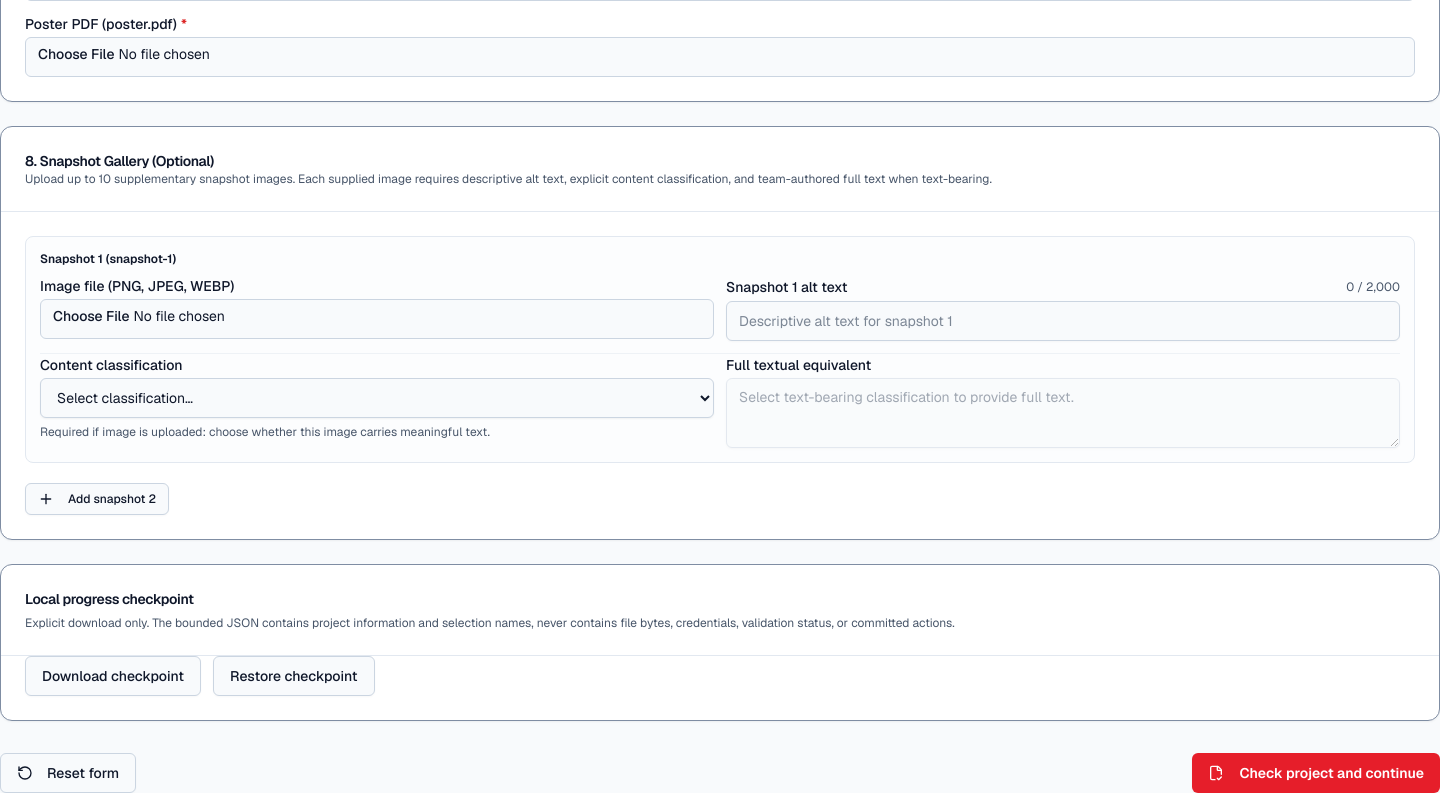
Scenario: ProjectIntakeForm Component › allows incrementing visible snapshot slots
The width and height of the screenshot is (1440, 793).
(page scrolled)
Click the button "Add snapshot 2" at (97, 499), box top-left (25, 483), bottom-right (169, 515)
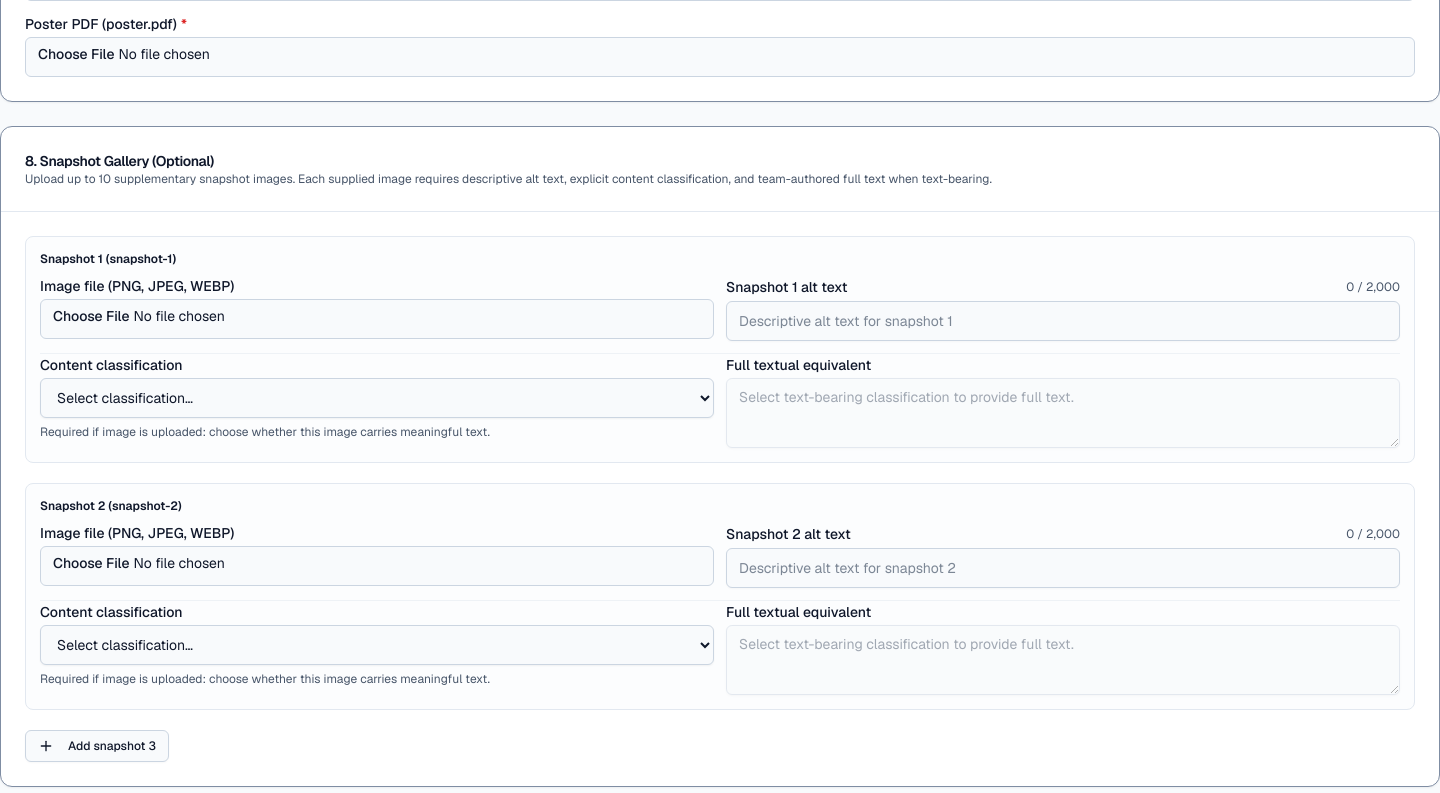
Now the button "Add snapshot 3" is shown
Click the button "Add snapshot 3" at (97, 746), box top-left (25, 730), bottom-right (169, 762)
(page scrolled)
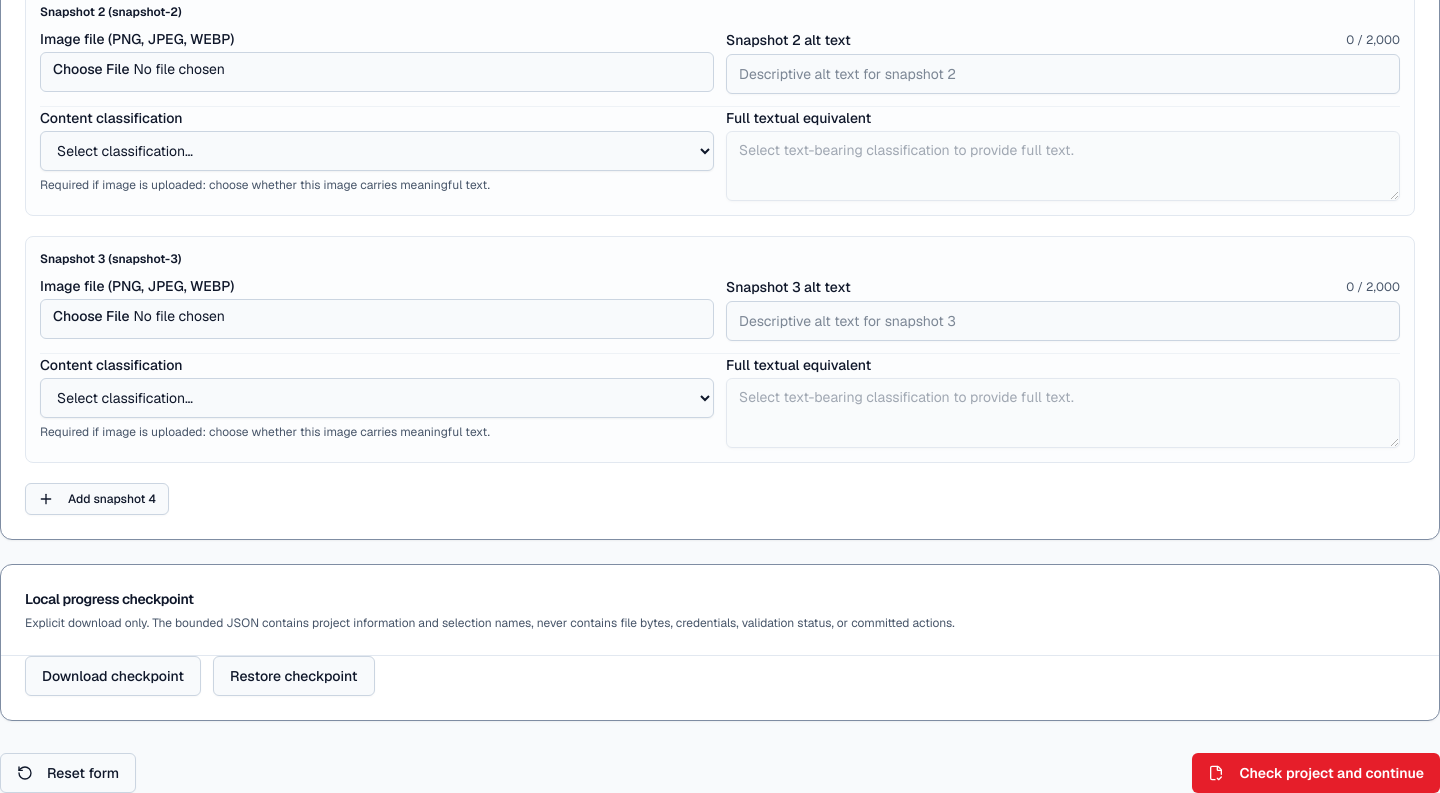
Now the button "Add snapshot 4" is shown, box top-left (25, 483), bottom-right (169, 515)
